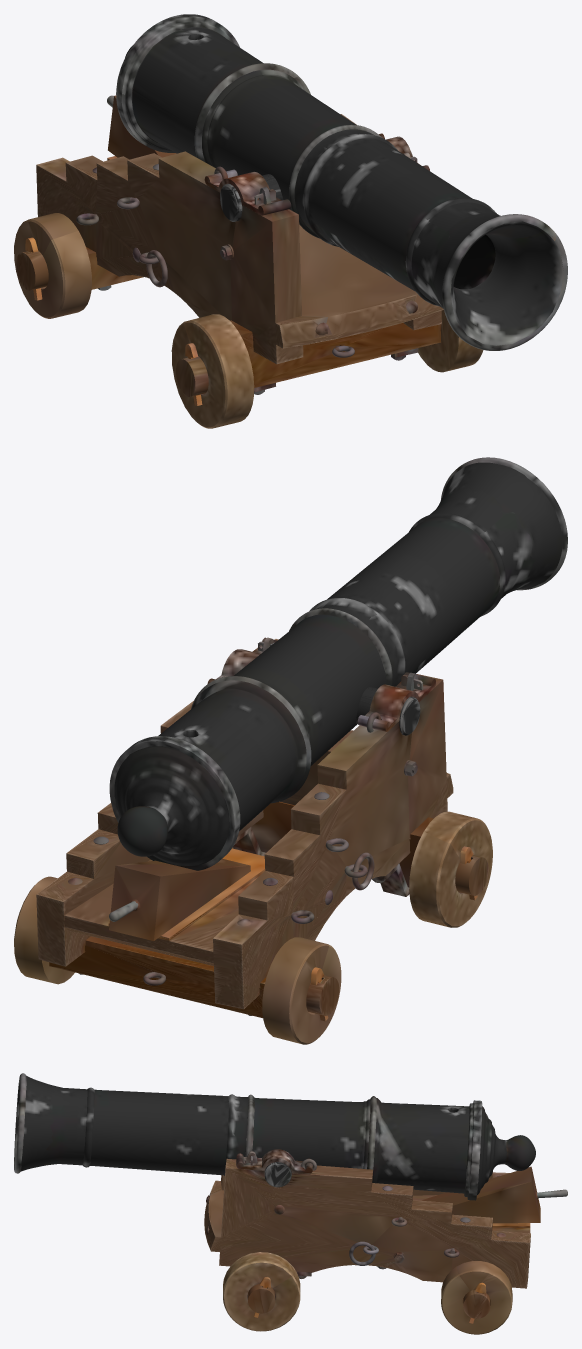
Rendered from MZ4250 - Kobold Cannon.glb.
3 views of the same model, one above another, from view 1: azimuth 30°, elevation 25°; view 2: azimuth 150°, elevation 25°; view 3: azimuth 270°, elevation 25° (orthographic). The views are drawn at different scales.
Visible parts, largest first — view 1: Kobold Cannon.001; view 2: Kobold Cannon.001; view 3: Kobold Cannon.001.
Part boxes in pixels (x1=…): Kobold Cannon.001: x1=14, y1=14, x2=567, y2=428; Kobold Cannon.001: x1=14, y1=457, x2=567, y2=1044; Kobold Cannon.001: x1=14, y1=1073, x2=567, y2=1334.
Bounding box in the file's own units: 27.7 × 26.7 × 63.38.
Materials: 1 (1 with a texture image).
